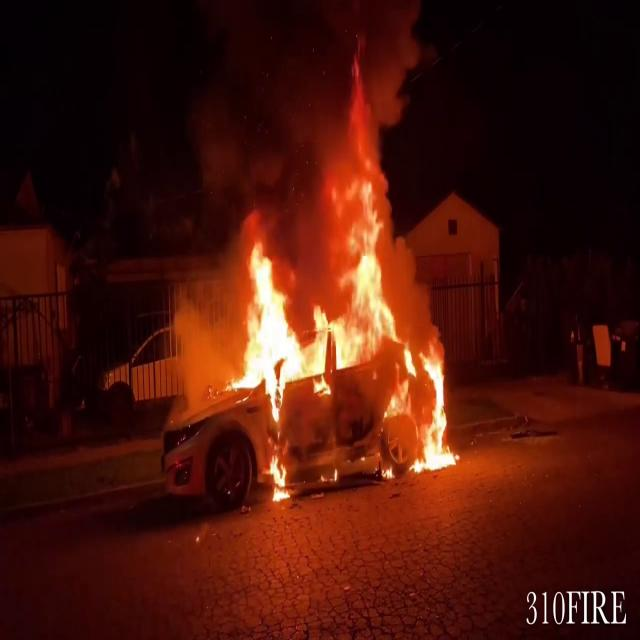Fire: (218, 120, 460, 488), (266, 449, 292, 502)
